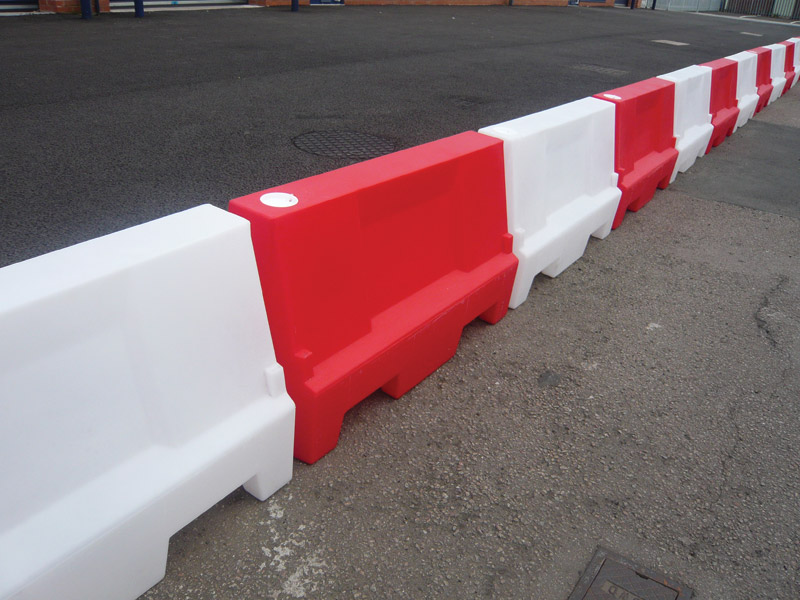Barrier: (37, 49, 789, 520)
